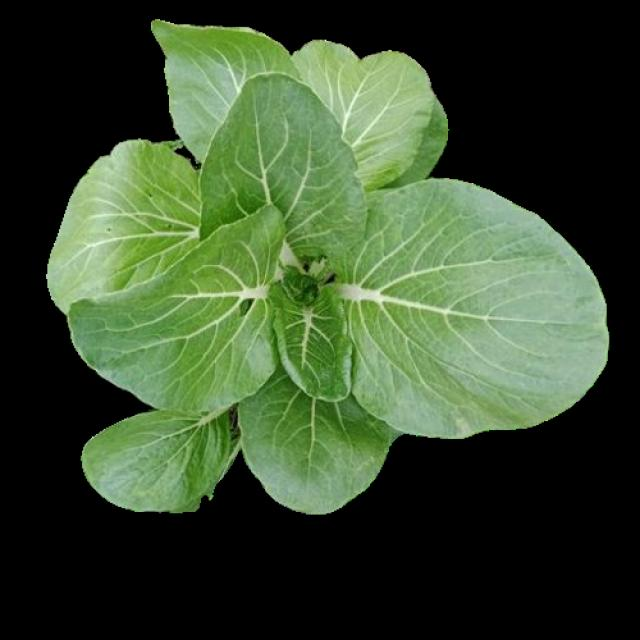healthy: (47, 15, 612, 512)
mature: (50, 18, 614, 514)
